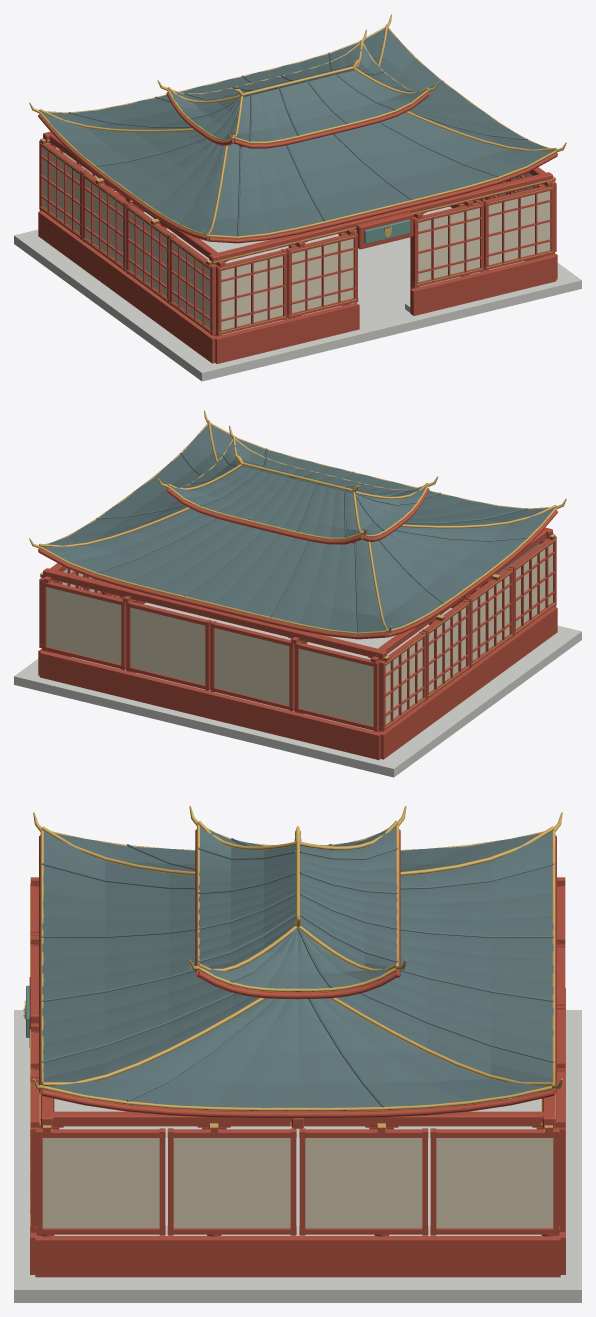
File: residence_far.glb
3 renders of one model, top to bottom at view 1: azimuth 30°, elevation 25°; view 2: azimuth 150°, elevation 25°; view 3: azimuth 270°, elevation 25°, orthographic. The views are drawn at different scales.
Visible parts, largest first — view 1: residence_far_Roof_Roof, residence_far_Walls_Timber, residence_far_Walls_Paper, residence_far_Floor_Stone, residence_far_Roof_Gold, residence_far_Posts_Timber, residence_far_Roof_Timber, residence_far_Walls_Gold, residence_far_Posts_Gold, residence_far_Walls_Jade; view 2: residence_far_Roof_Roof, residence_far_Walls_Timber, residence_far_Walls_Paper, residence_far_Floor_Stone, residence_far_Roof_Gold, residence_far_Posts_Timber, residence_far_Roof_Timber, residence_far_Walls_Gold; view 3: residence_far_Roof_Roof, residence_far_Walls_Paper, residence_far_Walls_Timber, residence_far_Floor_Stone, residence_far_Roof_Gold, residence_far_Posts_Timber, residence_far_Roof_Timber.
Boxes of the visible parts, x1=… form: residence_far_Roof_Roof: x1=42, y1=28, x2=554, y2=236; residence_far_Walls_Timber: x1=38, y1=138, x2=557, y2=363; residence_far_Walls_Paper: x1=43, y1=147, x2=550, y2=330; residence_far_Floor_Stone: x1=14, y1=206, x2=581, y2=381; residence_far_Roof_Gold: x1=29, y1=14, x2=566, y2=238; residence_far_Posts_Timber: x1=40, y1=131, x2=555, y2=336; residence_far_Roof_Timber: x1=38, y1=92, x2=557, y2=243; residence_far_Walls_Gold: x1=40, y1=143, x2=553, y2=332; residence_far_Posts_Gold: x1=40, y1=138, x2=555, y2=302; residence_far_Walls_Jade: x1=364, y1=219, x2=410, y2=243; residence_far_Roof_Roof: x1=41, y1=424, x2=553, y2=632; residence_far_Walls_Timber: x1=38, y1=534, x2=557, y2=759; residence_far_Walls_Paper: x1=46, y1=543, x2=552, y2=725; residence_far_Floor_Stone: x1=14, y1=602, x2=581, y2=777; residence_far_Roof_Gold: x1=29, y1=410, x2=566, y2=634; residence_far_Posts_Timber: x1=40, y1=527, x2=555, y2=732; residence_far_Roof_Timber: x1=38, y1=488, x2=557, y2=639; residence_far_Walls_Gold: x1=112, y1=539, x2=555, y2=727; residence_far_Roof_Roof: x1=42, y1=826, x2=553, y2=1107; residence_far_Walls_Paper: x1=42, y1=1138, x2=553, y2=1228; residence_far_Walls_Timber: x1=29, y1=886, x2=565, y2=1277; residence_far_Floor_Stone: x1=14, y1=1010, x2=581, y2=1302; residence_far_Roof_Gold: x1=33, y1=806, x2=562, y2=1111; residence_far_Posts_Timber: x1=30, y1=877, x2=565, y2=1236; residence_far_Roof_Timber: x1=39, y1=829, x2=556, y2=1118.
Bounding box in the file's own units: 14 × 6.78 × 12.
